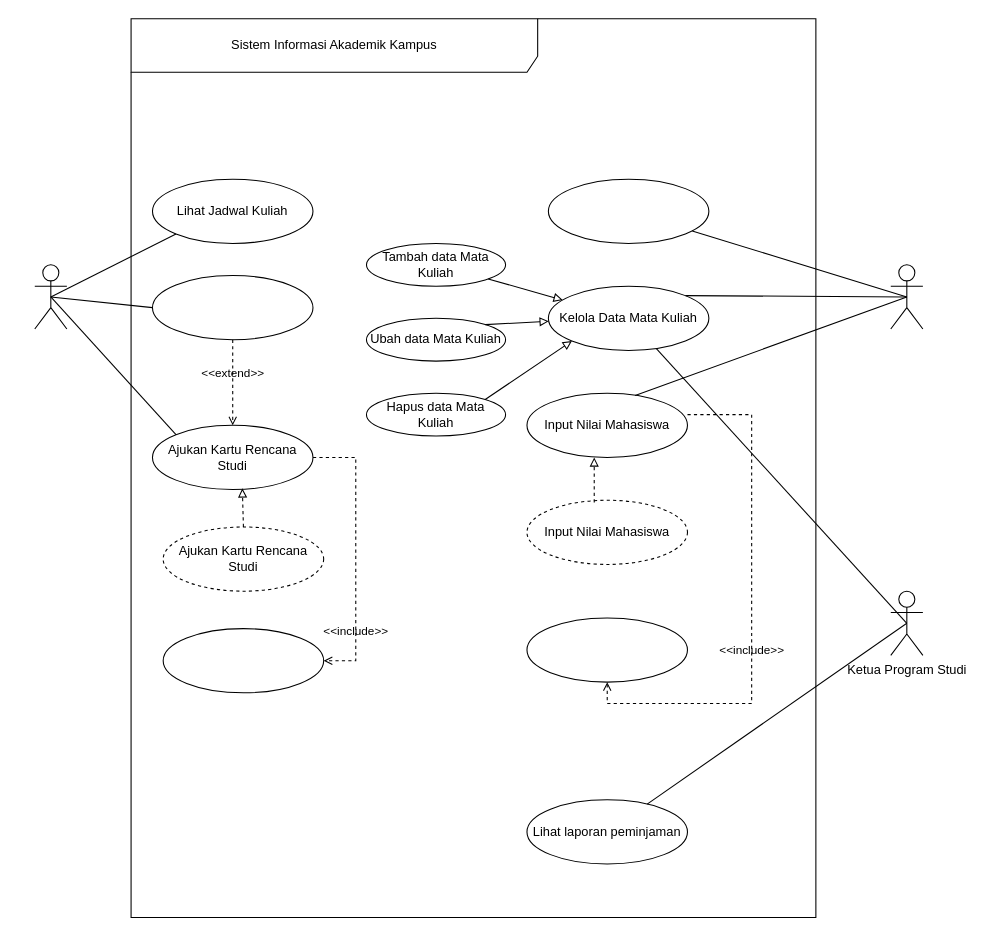
The diagram is 1003 pixels wide and 936 high, and some of its shapes have lost their labels. Each missing label, with the box of its shape:
Cetak Kartu Hasil Studi: (151, 274, 313, 340)
Lihat hasil pertujuan KRS: (547, 178, 709, 243)
Mahasiswa: (34, 264, 67, 329)
Periksa Prasyarat Mata Kuliah: (162, 628, 324, 693)
Staf Administrasi Akademik: (890, 264, 923, 329)
Verifikasi Nilai Mahasiswa: (526, 617, 687, 682)
